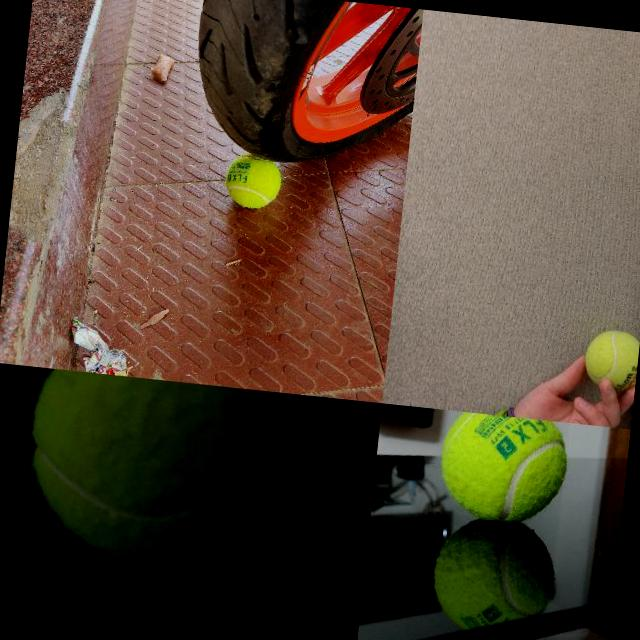Tennis Ball: (18, 367, 287, 572), (434, 409, 572, 528), (580, 326, 640, 393), (222, 156, 282, 210)
